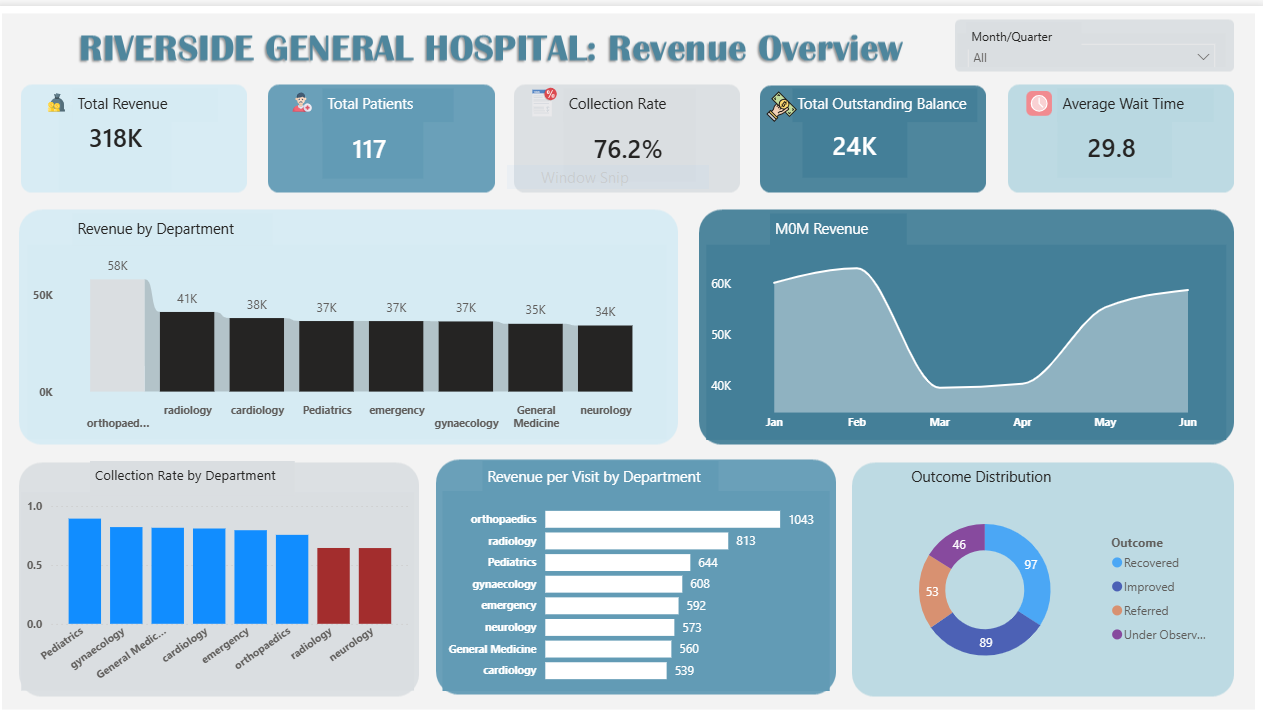

The dashboard page shown, as its layout file describes it:
{"tool":"powerbi","page":{"name":"Page 2","canvas":[1280,720],"ordinal":1},"visuals":[{"type":"cardVisual","fields":{"Data":["Dax Measure.Total Revenue"]},"box":[69,98.8,113.1,85.7],"z":0},{"type":"cardVisual","fields":{"Data":["Dax Measure.Total Patients"]},"box":[332.1,106,101.2,66.7],"z":1000},{"type":"cardVisual","fields":{"Data":["Dax Measure.Collection Rate"]},"box":[573.8,104.8,132.1,70.2],"z":2000},{"type":"cardVisual","fields":{"Data":["Dax Measure.Total Outstanding Balance"]},"box":[811.9,103.6,104.8,67.9],"z":3000},{"type":"cardVisual","fields":{"Data":["Dax Measure.Avg Wait Time"]},"box":[1067.9,106,114.3,65.5],"z":4000},{"type":"textbox","box":[82.1,82.1,145.2,33.3],"z":5000},{"type":"textbox","box":[332.1,82.1,131,33.3],"z":6000},{"type":"textbox","box":[573.8,82.1,132.1,33.3],"z":7000},{"type":"textbox","box":[802.4,82.1,184.5,33.3],"z":8000},{"type":"textbox","box":[1067.9,82.1,156,33.3],"z":9000},{"type":"columnChart","fields":{"Y":["Dax Measure.Total Revenue"],"Category":["Dim_Departments.DepartmentName"]},"box":[38.1,239.3,639.3,194],"z":10000},{"type":"textbox","box":[82.1,207.1,200,32.1],"z":11000},{"type":"lineChart","fields":{"Category":["Date Table.Month Name"],"Y":["Dax Measure.Total Revenue"]},"box":[716.2,238.8,520,195],"z":12000},{"type":"textbox","box":[779.8,207.1,136.9,32.1],"z":13000},{"type":"textbox","box":[492.5,455,236.2,33.8],"z":14000},{"type":"donutChart","fields":{"Y":["Dax Measure.Total Visits"],"Category":["RIverside General Hospital Visits.Outcome"]},"box":[864.3,489.3,371.4,190.5],"z":15000},{"type":"textbox","box":[916.7,454.8,175,34.5],"z":16000},{"type":"image","box":[50,85.7,33.3,20.2],"z":17000},{"type":"image","box":[292.9,85.7,39.3,20.2],"z":18000},{"type":"image","box":[534.5,81,39.3,29.8],"z":19000},{"type":"image","box":[771.4,84.5,40.5,31],"z":20000},{"type":"image","box":[1019.1,84.5,60.7,25],"z":21000},{"type":"slicer","fields":{"Values":["Date Table.Month Name"]},"box":[967.9,27.4,267.9,33.3],"z":22000},{"type":"textbox","box":[976.2,16.7,115.5,27.4],"z":23000},{"type":"columnChart","fields":{"Y":["Dax Measure.Collection Rate"],"Category":["Dim_Departments.DepartmentName"]},"box":[31.2,486.2,392.5,198.8],"z":24000},{"type":"textbox","box":[100,454.8,204.8,34.5],"z":25000},{"type":"barChart","fields":{"Y":["Dax Measure.Revenue per Visit"],"Category":["Dim_Departments.DepartmentName"]},"box":[452.5,485,387.5,200],"z":26000}]}

Visuals, with their boxes in screenshot pixels (x1, y1, x2, y2), scaled from the page's 1280x720 canvas onto the 1263x720 screenshot:
cardVisual - Dax Measure.Total Revenue: pyautogui.locateOnScreen(68, 99, 180, 184)
cardVisual - Dax Measure.Total Patients: pyautogui.locateOnScreen(328, 106, 428, 173)
cardVisual - Dax Measure.Collection Rate: pyautogui.locateOnScreen(566, 105, 697, 175)
cardVisual - Dax Measure.Total Outstanding Balance: pyautogui.locateOnScreen(801, 104, 905, 172)
cardVisual - Dax Measure.Avg Wait Time: pyautogui.locateOnScreen(1054, 106, 1166, 172)
textbox: pyautogui.locateOnScreen(81, 82, 224, 115)
textbox: pyautogui.locateOnScreen(328, 82, 457, 115)
textbox: pyautogui.locateOnScreen(566, 82, 697, 115)
textbox: pyautogui.locateOnScreen(792, 82, 974, 115)
textbox: pyautogui.locateOnScreen(1054, 82, 1208, 115)
columnChart - Dax Measure.Total Revenue x Dim_Departments.DepartmentName: pyautogui.locateOnScreen(38, 239, 668, 433)
textbox: pyautogui.locateOnScreen(81, 207, 278, 239)
lineChart - Date Table.Month Name x Dax Measure.Total Revenue: pyautogui.locateOnScreen(707, 239, 1220, 434)
textbox: pyautogui.locateOnScreen(769, 207, 905, 239)
textbox: pyautogui.locateOnScreen(486, 455, 719, 489)
donutChart - Dax Measure.Total Visits x RIverside General Hospital Visits.Outcome: pyautogui.locateOnScreen(853, 489, 1219, 680)
textbox: pyautogui.locateOnScreen(905, 455, 1077, 489)
image: pyautogui.locateOnScreen(49, 86, 82, 106)
image: pyautogui.locateOnScreen(289, 86, 328, 106)
image: pyautogui.locateOnScreen(527, 81, 566, 111)
image: pyautogui.locateOnScreen(761, 84, 801, 116)
image: pyautogui.locateOnScreen(1006, 84, 1065, 110)
slicer - Date Table.Month Name: pyautogui.locateOnScreen(955, 27, 1219, 61)
textbox: pyautogui.locateOnScreen(963, 17, 1077, 44)
columnChart - Dax Measure.Collection Rate x Dim_Departments.DepartmentName: pyautogui.locateOnScreen(31, 486, 418, 685)
textbox: pyautogui.locateOnScreen(99, 455, 301, 489)
barChart - Dax Measure.Revenue per Visit x Dim_Departments.DepartmentName: pyautogui.locateOnScreen(446, 485, 829, 685)
